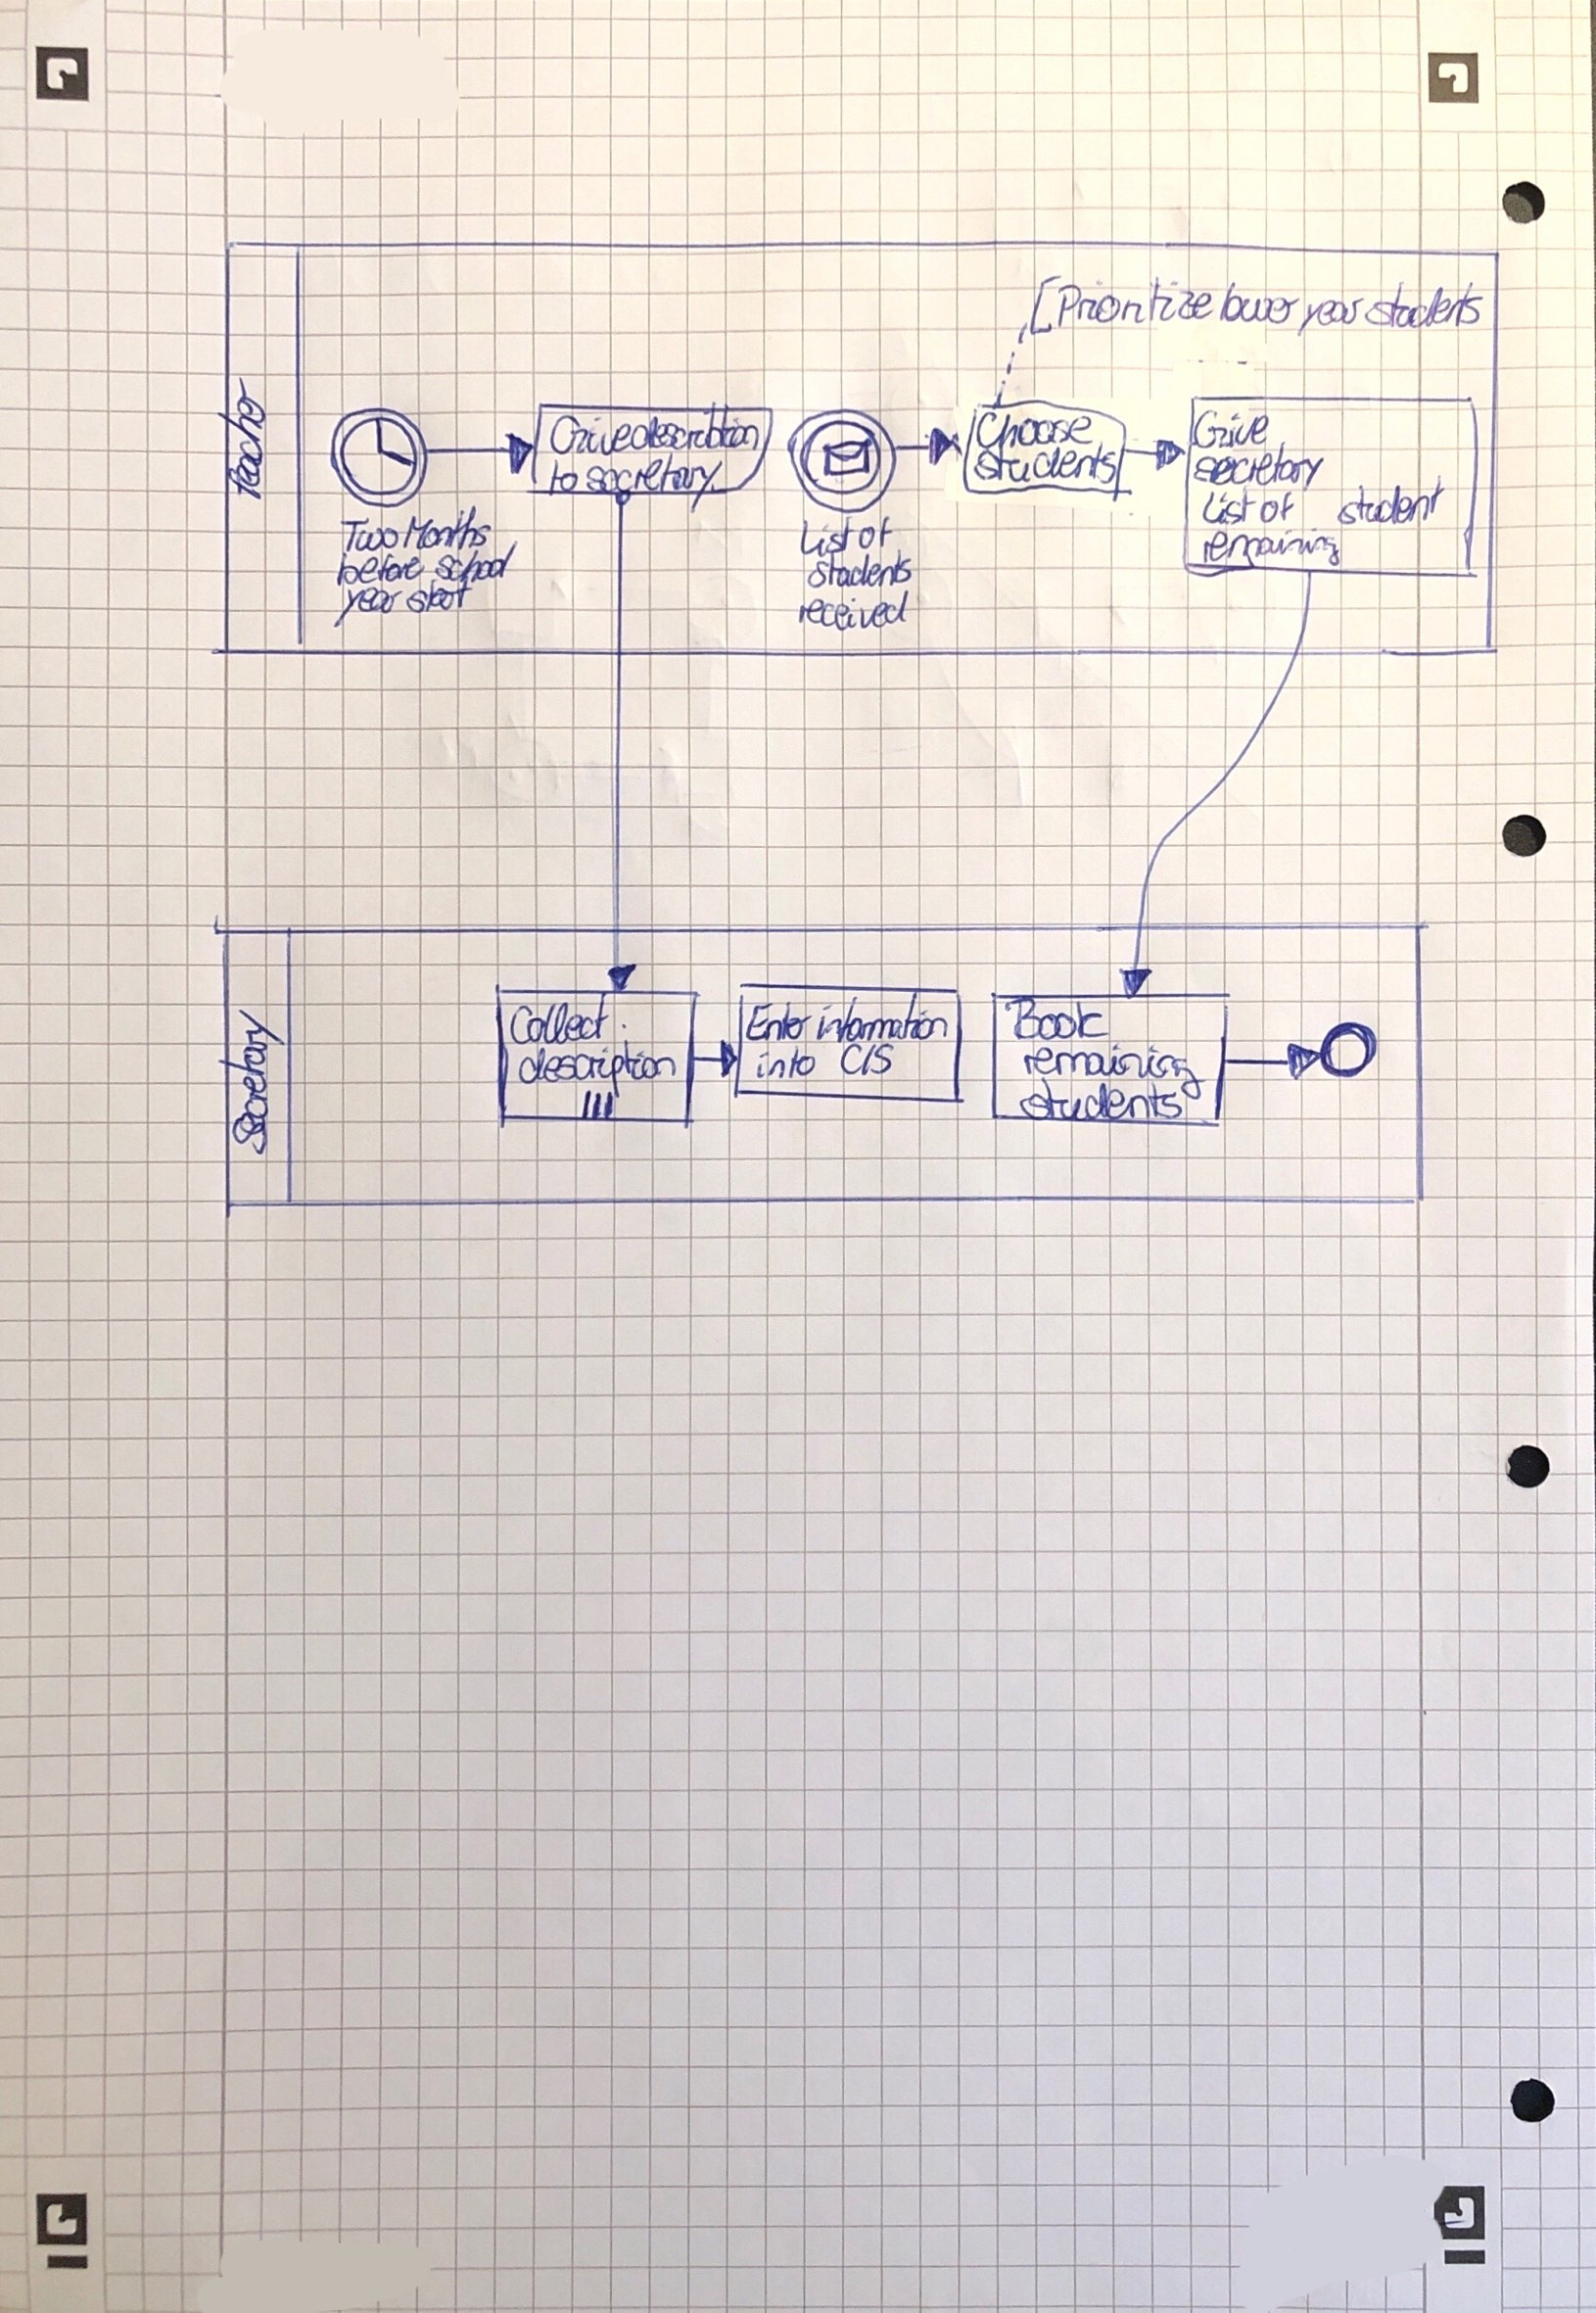Book: (1007, 998, 1105, 1042)
CIS: (842, 1040, 897, 1078)
Choose: (975, 405, 1092, 451)
Collect: (510, 996, 611, 1040)
Enter: (745, 1000, 811, 1041)
Give: (549, 414, 631, 453), (1195, 409, 1271, 449)
III: (581, 1090, 620, 1125)
Months: (404, 506, 492, 550)
Secretary: (223, 1009, 283, 1153)
Two: (341, 515, 399, 554)
[Prioritize: (1034, 274, 1213, 334)
before: (335, 550, 423, 589)
describtion: (634, 402, 763, 449)
description: (517, 1039, 676, 1095)
information: (816, 990, 949, 1044)
into: (751, 1043, 818, 1078)
list: (797, 517, 851, 558), (1201, 487, 1255, 526)
lower: (1220, 280, 1298, 323)
of: (1261, 489, 1298, 527), (859, 515, 896, 553)
received: (796, 594, 910, 630)
remaining: (1023, 1043, 1206, 1098), (1199, 530, 1342, 566)
school: (436, 543, 516, 579)
secretary: (583, 455, 723, 509), (1195, 444, 1326, 487)
start: (405, 580, 471, 612)
student: (1337, 474, 1445, 525)
students: (1016, 1081, 1184, 1123), (1367, 279, 1483, 330), (974, 445, 1122, 482), (809, 551, 915, 589)
teacher: (219, 378, 268, 498)
to: (547, 456, 578, 492)
year: (336, 588, 402, 628), (1298, 297, 1366, 335)
